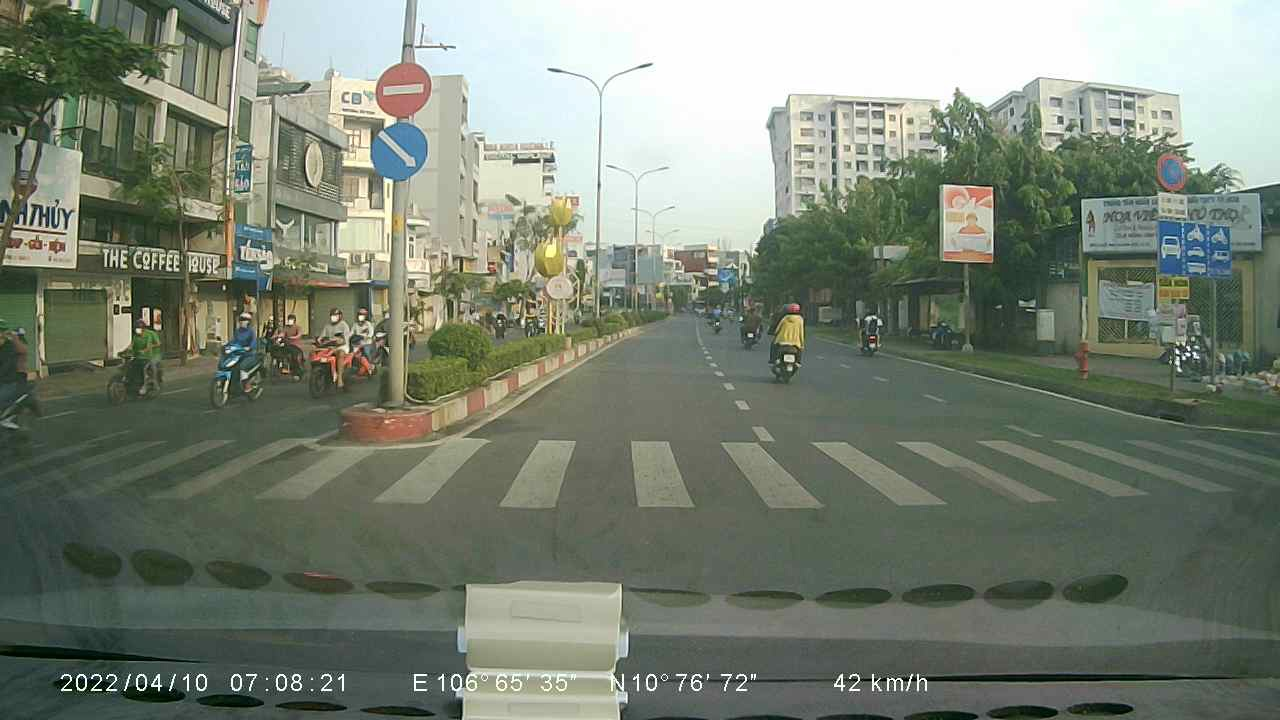Bien khac: (1160, 219, 1233, 277)
Cam di nguoc chieu: (371, 58, 432, 119)
Cam do xe: (1150, 145, 1193, 194)
Huong di phai re phai: (368, 121, 429, 177)
